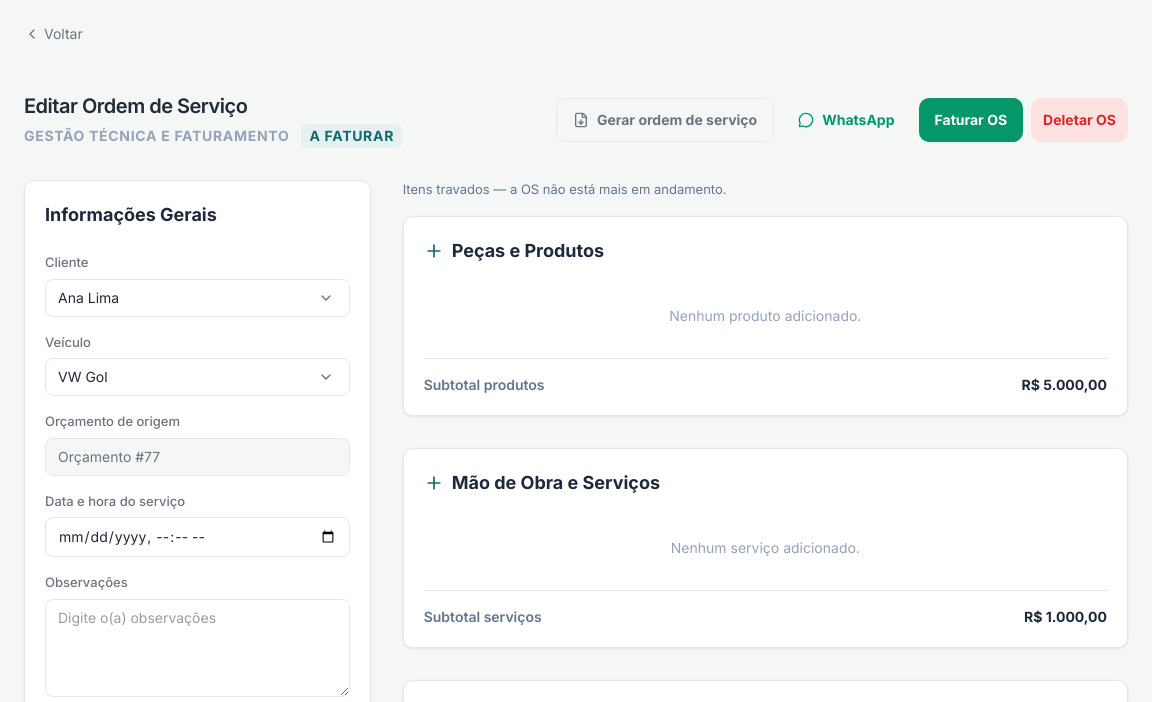
Test: <OrderEdit> — faturamento › 'Faturar OS' abre o pedido de forma de pagamento
The image size is (1152, 702).
Click the button "Faturar OS".
click(971, 120)  # box [918,98,1023,142]
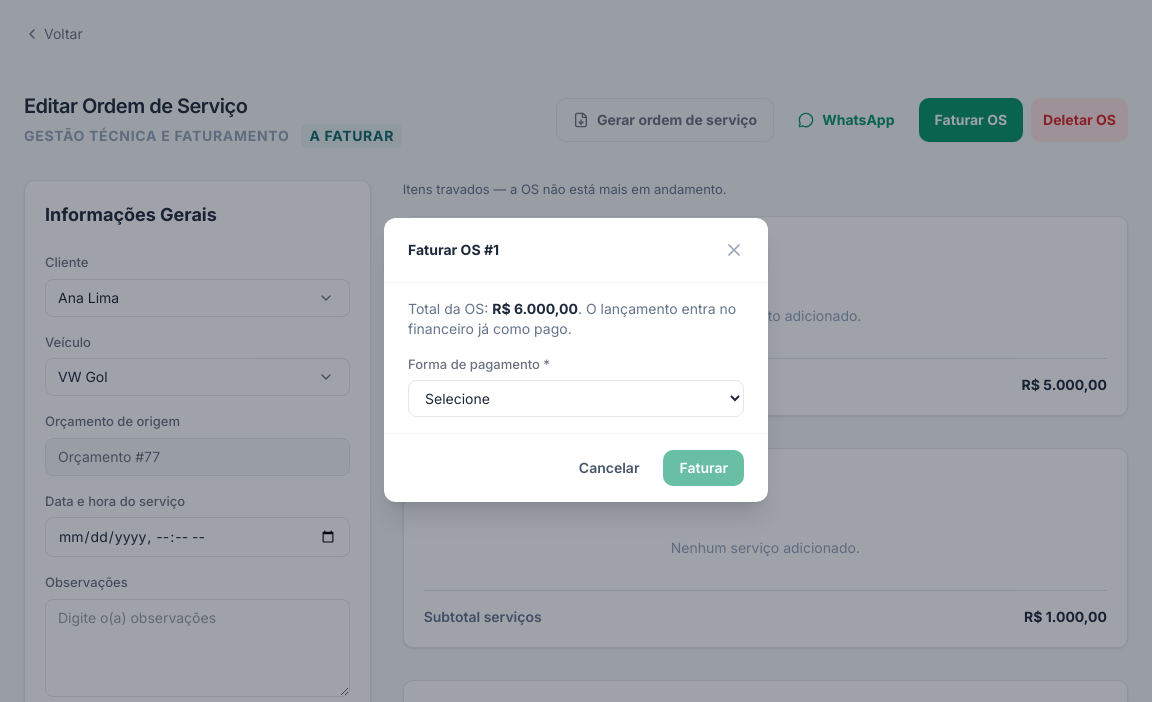
Check: the dialog "Faturar OS #1" is shown, box [384,218,768,502]
Check: the dropdown labelled "Forma de pagamento *" is shown, box [408,380,744,417]
